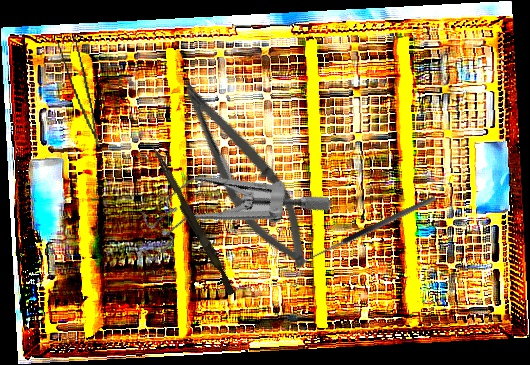Hook Surgical: (304, 194, 440, 270)
Micro Scissor: (156, 69, 330, 279)
Pusher: (144, 144, 240, 296)
Speculum: (115, 116, 336, 319)
Tissue Forceps: (55, 30, 101, 152)
